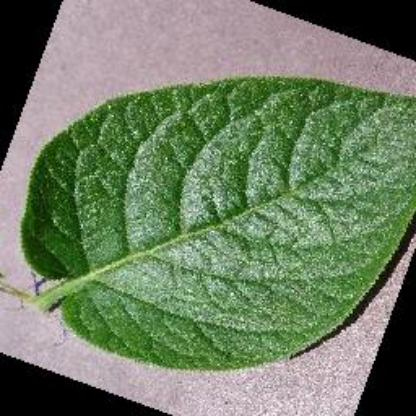Healthy-plant: (21, 67, 415, 374)
